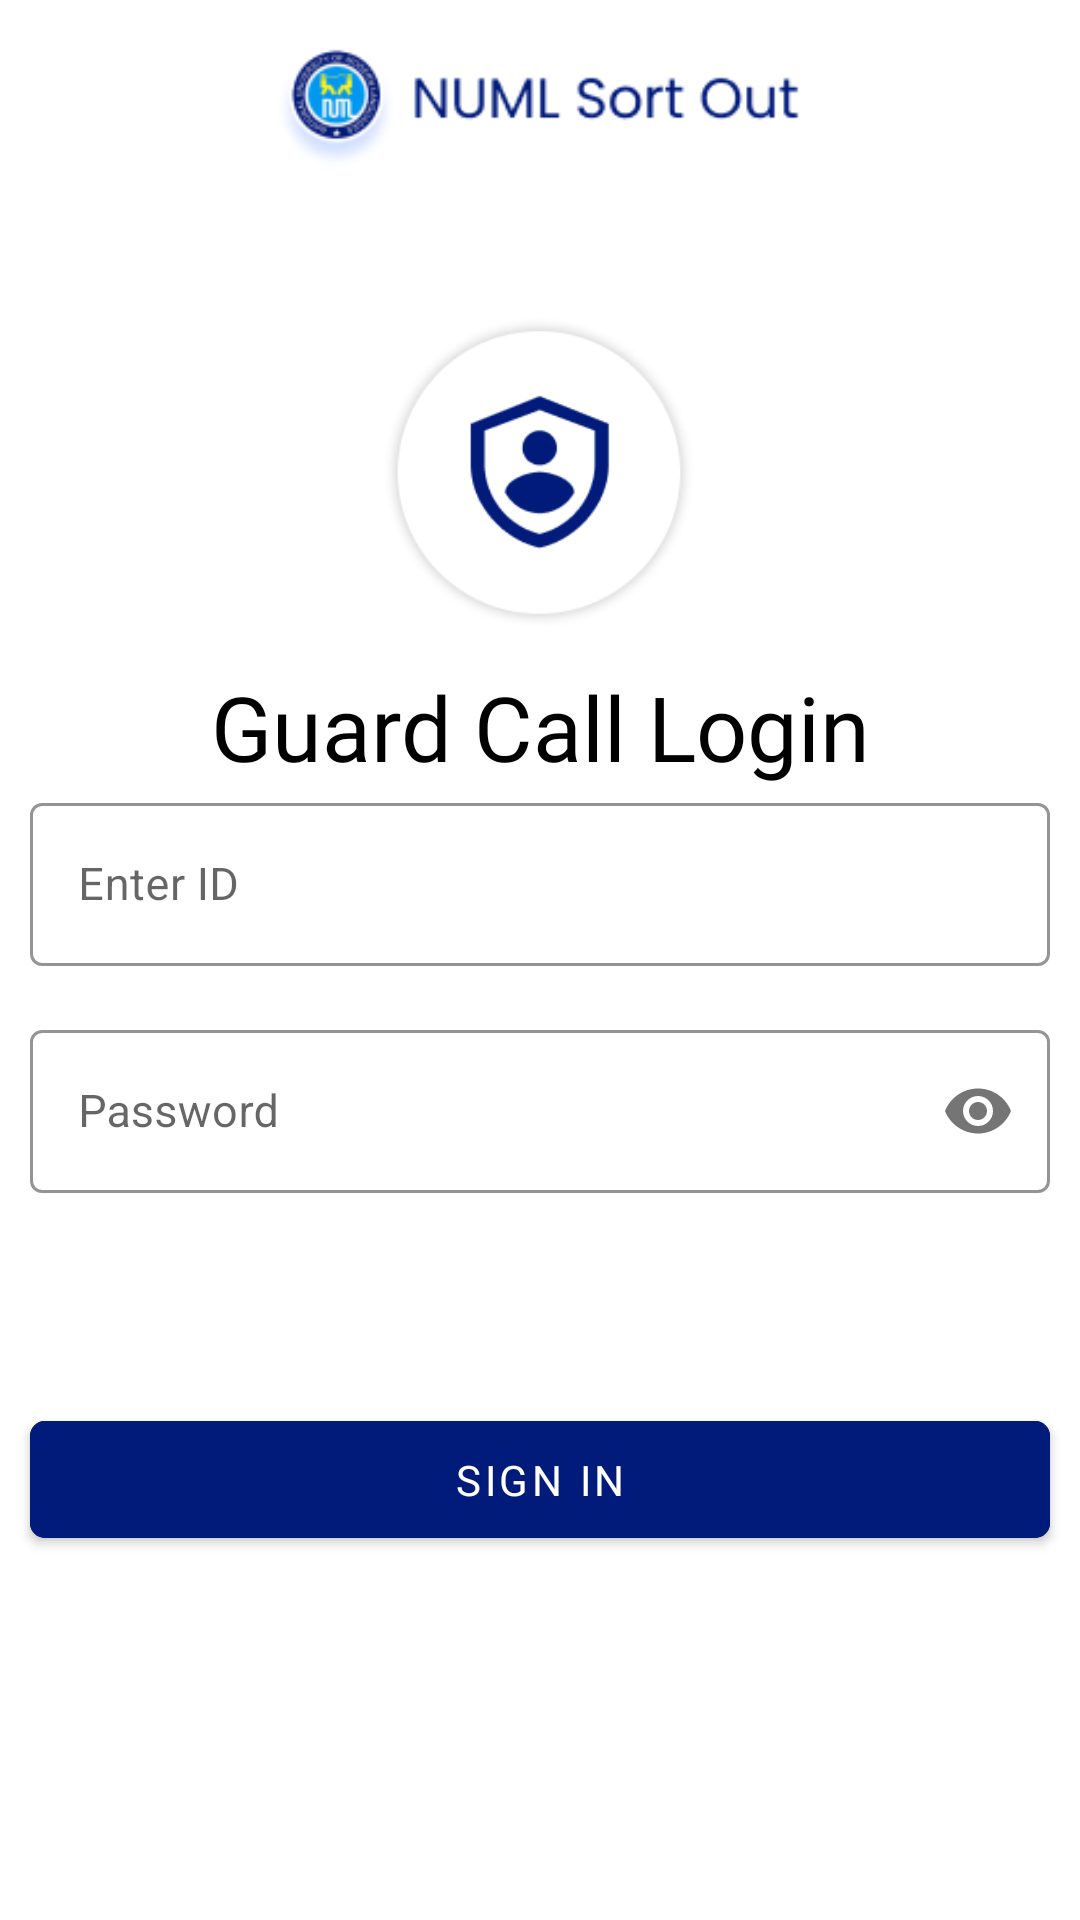

Screen size 1080x1920. Icon name, then its center in pixels as [x,y]:
admin: [539,472]
